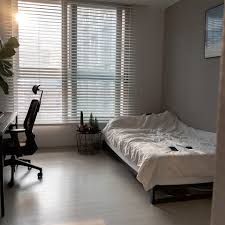Bed: (101, 110, 217, 204)
Chair: (2, 82, 48, 188)
